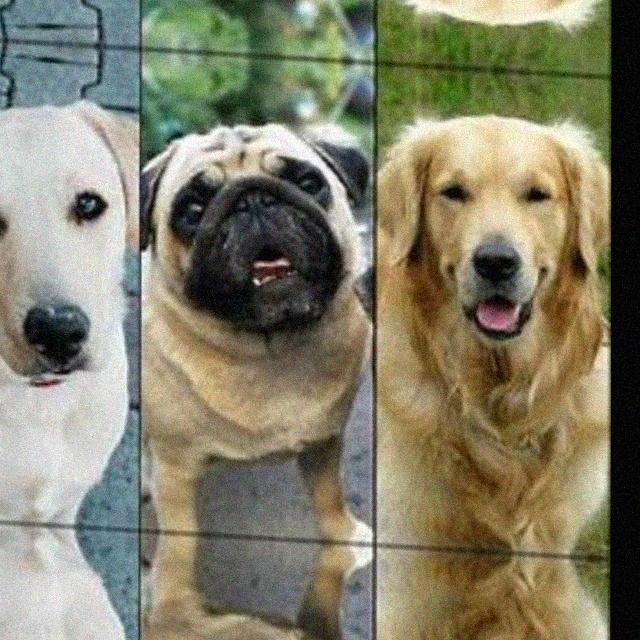dog: (385, 84, 609, 504), (144, 108, 381, 484), (0, 83, 149, 484), (386, 0, 610, 54), (144, 591, 380, 640), (0, 562, 148, 640), (384, 599, 608, 640)
